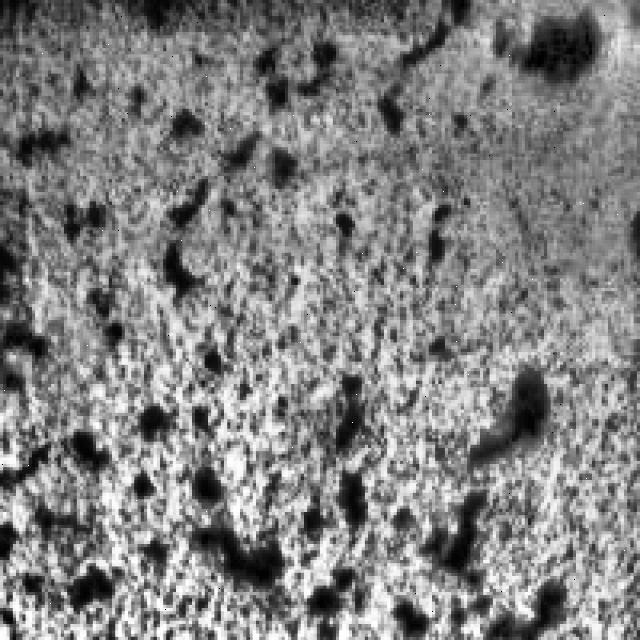Rolled_in_Scale: (32, 77, 573, 628)
Scratches: (515, 3, 618, 83)
